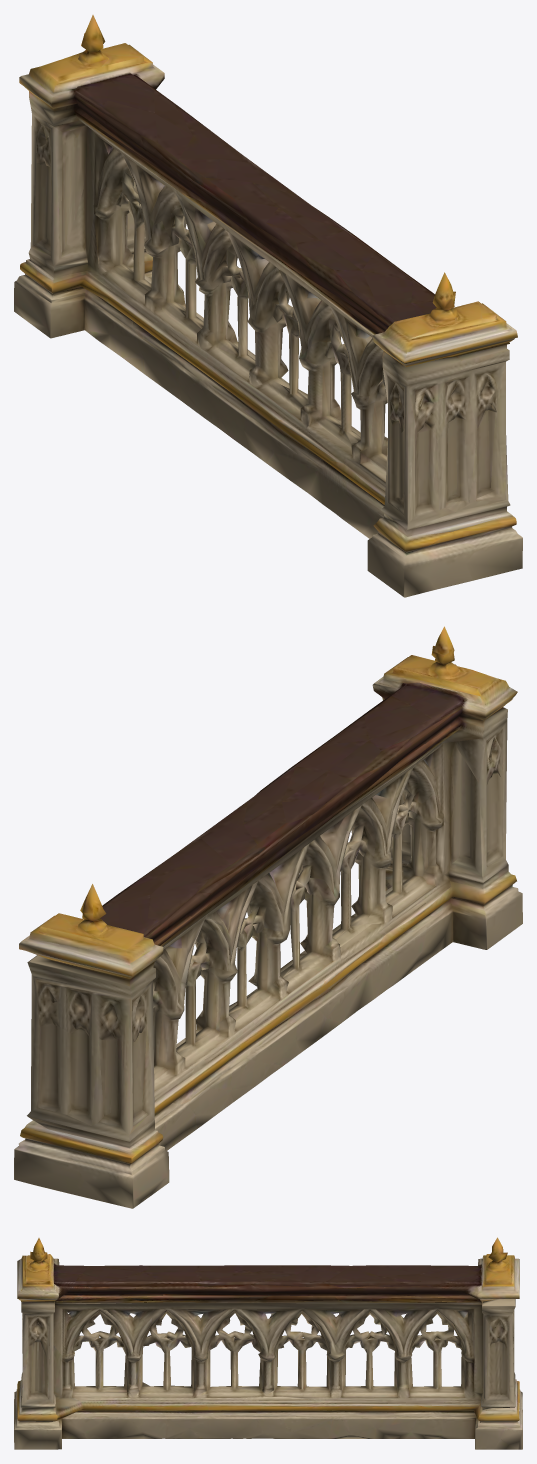
Rendered from balustrade.glb.
The picture shows the model from 3 angles, top to bottom: view 1: azimuth 30°, elevation 25°; view 2: azimuth 150°, elevation 25°; view 3: azimuth 270°, elevation 25°; orthographic projection. The views are drawn at different scales.
Parts seen in each view (by area): view 1: tripo_node_8d985a1a-a92d-48eb-98f7-c750a71b66ab; view 2: tripo_node_8d985a1a-a92d-48eb-98f7-c750a71b66ab; view 3: tripo_node_8d985a1a-a92d-48eb-98f7-c750a71b66ab.
Boxes of the visible parts, x1,y1,x2,y2 form: tripo_node_8d985a1a-a92d-48eb-98f7-c750a71b66ab: (14, 15, 522, 597); tripo_node_8d985a1a-a92d-48eb-98f7-c750a71b66ab: (14, 626, 522, 1208); tripo_node_8d985a1a-a92d-48eb-98f7-c750a71b66ab: (14, 1237, 522, 1449).
Bounding box in the file's own units: 0.1733 × 0.4112 × 0.9783.
Materials: 1 (1 with a texture image).
